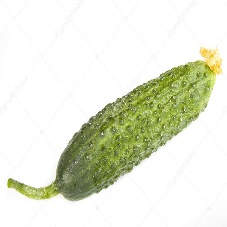cucumber: (55, 58, 219, 201)
